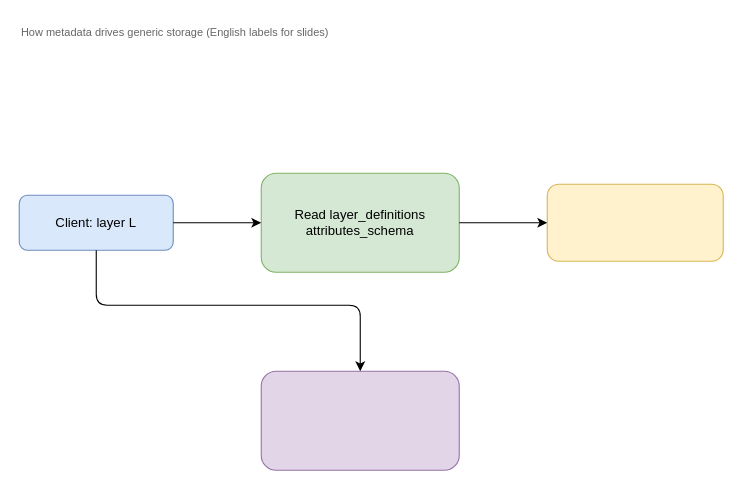
Some shapes in this 743 by 490 pixel diagram are drawn without their labels. Each missing label, with the centre of its shape:
Read / write layer_records properties + geom: the point at 359,420
UI form / validation from schema: the point at 634,222
